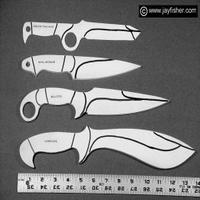knife: (15, 123, 199, 173), (11, 85, 175, 115), (15, 14, 151, 49), (14, 51, 145, 82)
